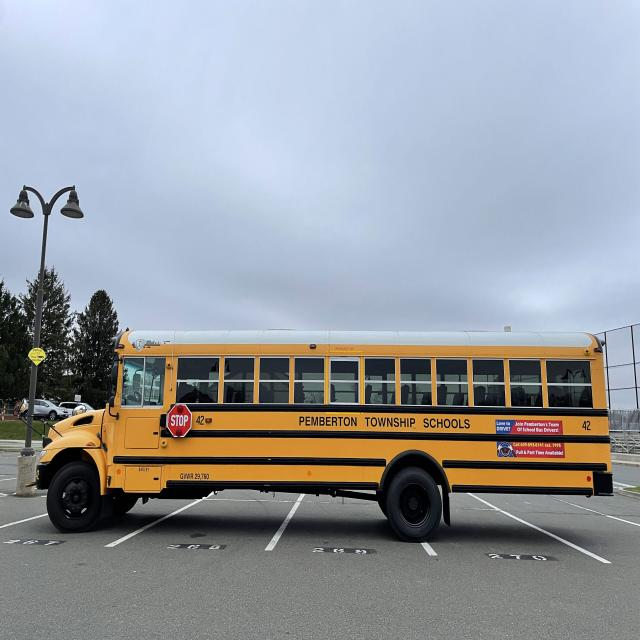bus: (30, 311, 629, 549)
